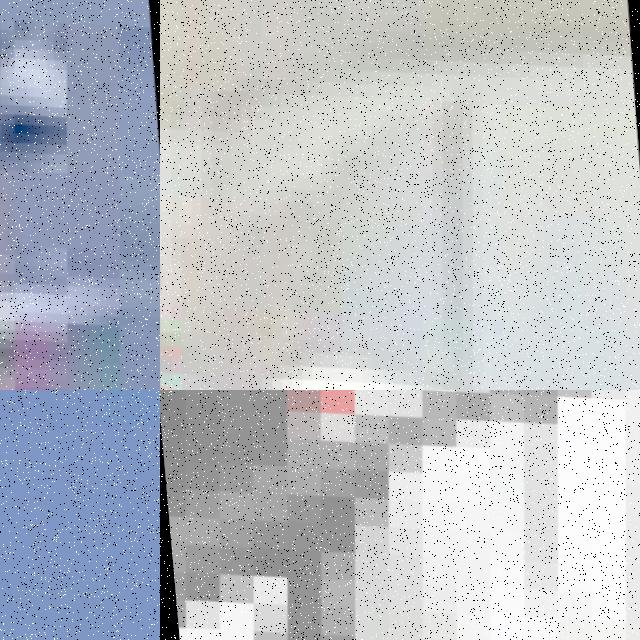drone: (160, 0, 640, 390), (160, 390, 640, 640), (0, 0, 160, 390)
